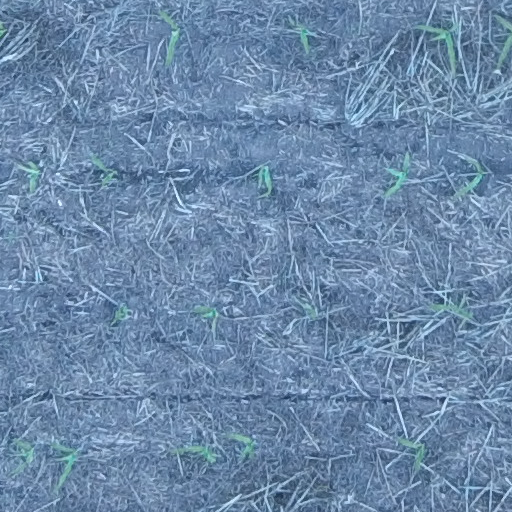planta: (410, 23, 458, 75), (445, 155, 486, 199), (48, 440, 79, 490), (382, 150, 411, 197), (157, 8, 180, 67), (168, 444, 218, 464), (395, 437, 425, 470), (89, 154, 118, 185), (223, 432, 256, 459), (11, 436, 34, 474), (286, 19, 311, 53), (192, 305, 219, 335), (430, 303, 474, 319), (256, 163, 273, 198), (26, 159, 40, 194)
